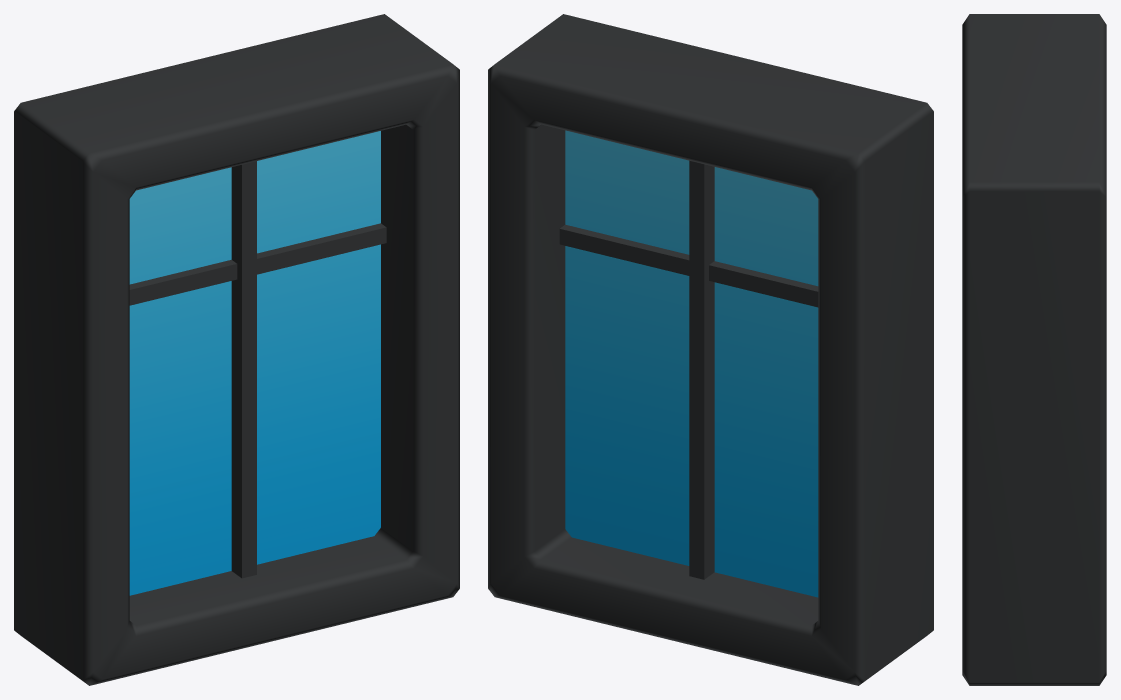
Rendered from Window_Black_12.glb.
The picture shows the model from 3 angles, left to right: view 1: azimuth 30°, elevation 25°; view 2: azimuth 150°, elevation 25°; view 3: azimuth 270°, elevation 25°; orthographic projection. The views are drawn at different scales.
Visible parts, largest first — view 1: Window_Black_12; view 2: Window_Black_12; view 3: Window_Black_12.
Boxes of the visible parts, left/top/right/bottom form: Window_Black_12: left=14, top=14, right=459, bottom=685; Window_Black_12: left=488, top=14, right=933, bottom=685; Window_Black_12: left=962, top=14, right=1106, bottom=685.
Size of the model in its own units: 1.14 by 1.54 by 0.4.
Materials: 2 (2 with a texture image).
